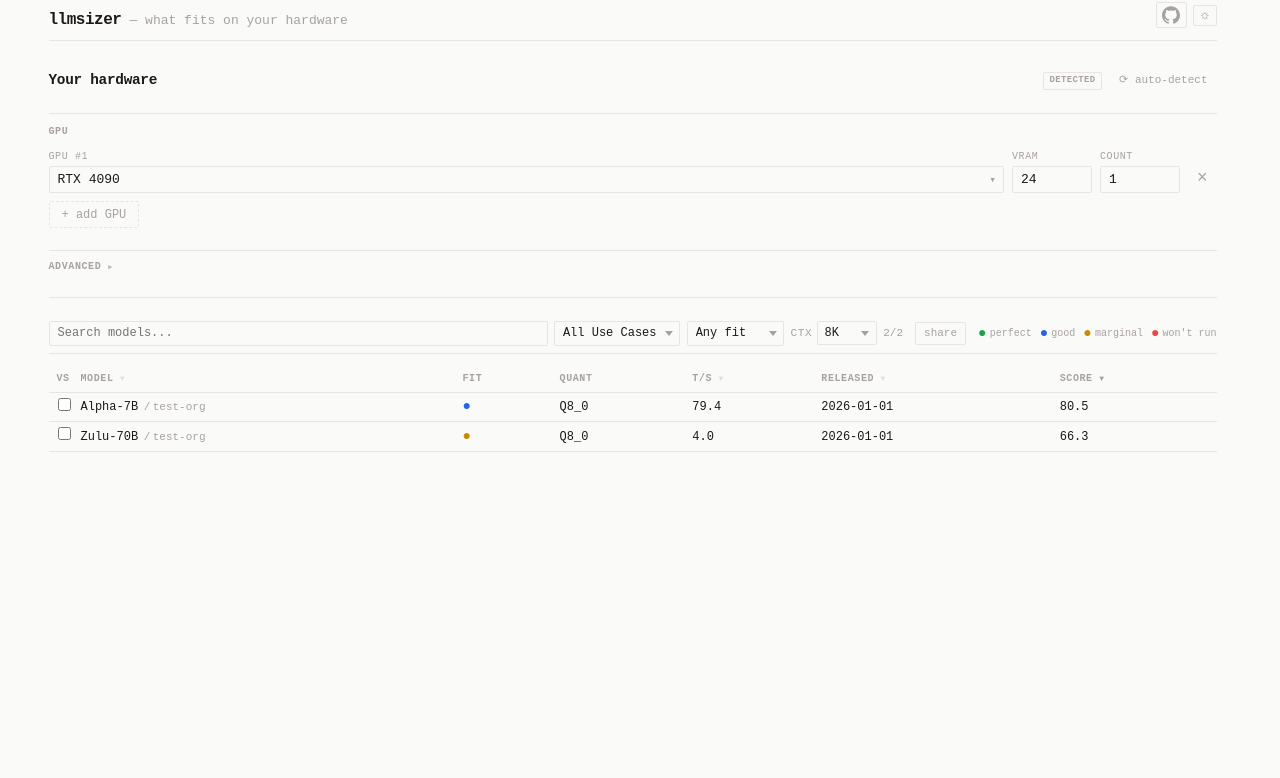
Test: App model state › keeps details stable across sorting and comparisons visible across filtering
Click the text "Alpha-7B": (632, 407) [48,392,1216,422]
(page scrolled)
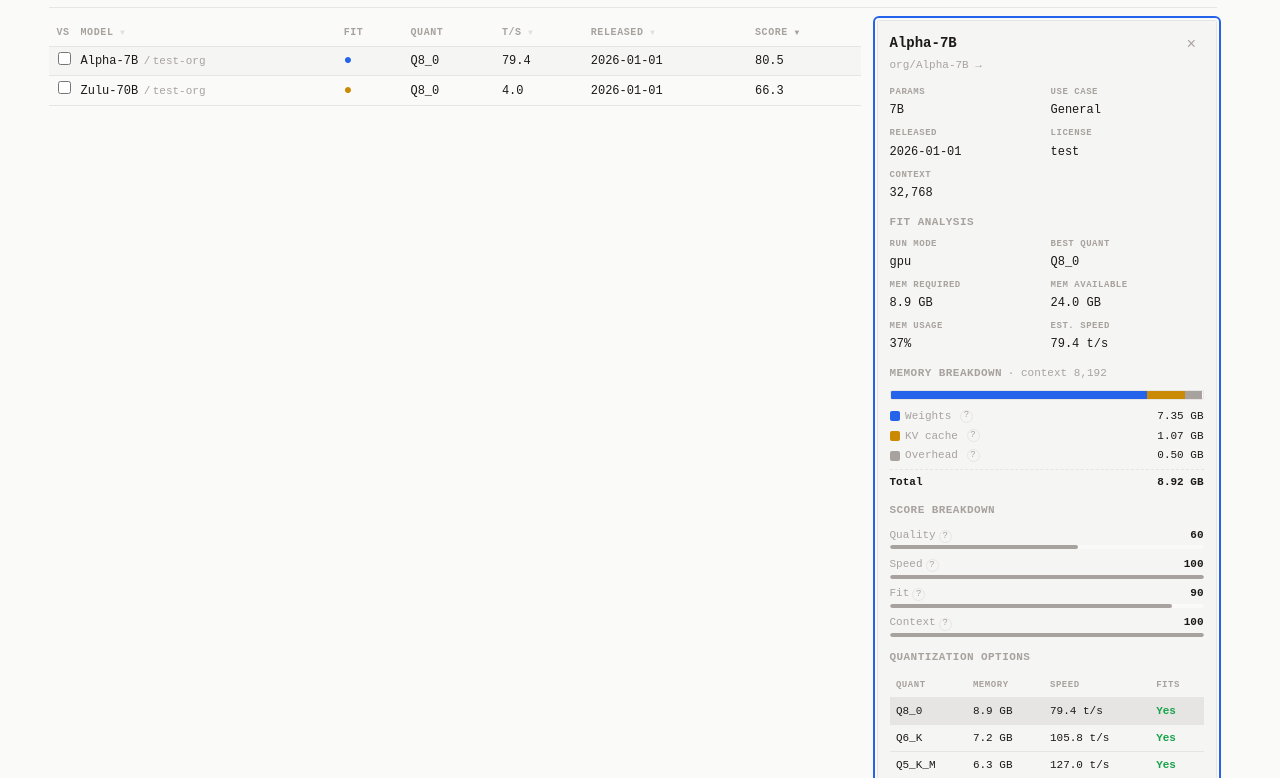
Check: the heading "Alpha-7B" is shown, box [890,35,957,51]
Click the button with aria-label "Sort by Model": (103, 33) [80,25,125,40]
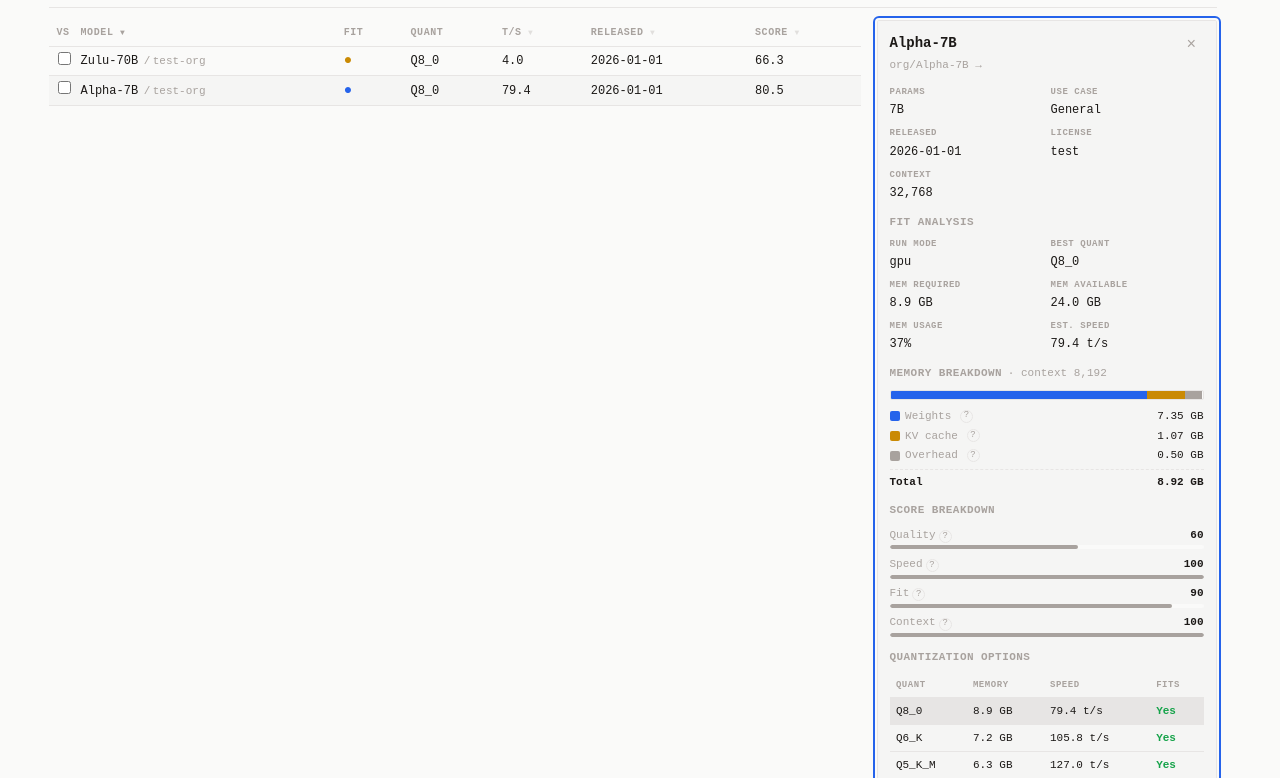
Check: the heading "Alpha-7B" is shown, box [890,35,957,51]
Click the checkbox named "Add to compare" next to "Zulu-70B": (64, 58) [58,52,71,65]
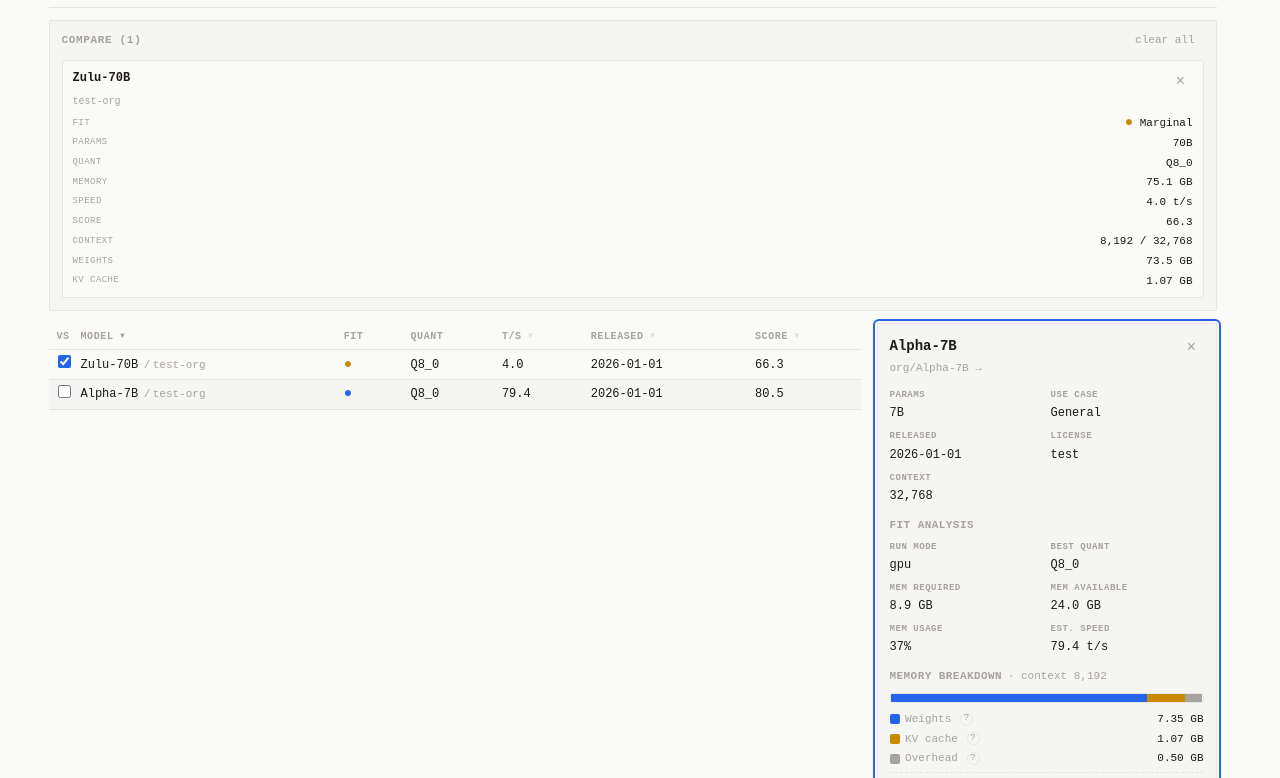
Click the checkbox named "Add to compare": (64, 391) [58,385,71,398]
(page scrolled)
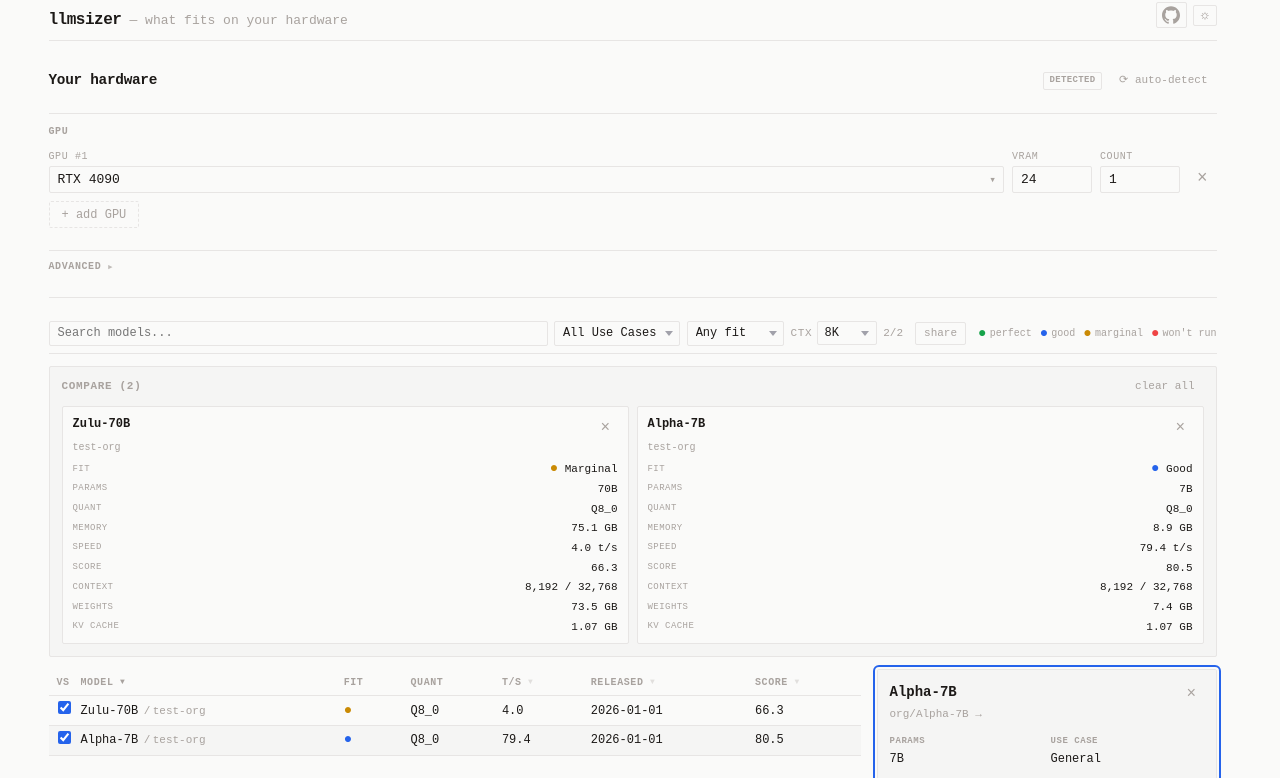
Check: the heading "Compare (2)" is shown, box [62,378,141,395]
In the field labelled "Search models": (298, 334) [48,321,548,346], type "Alpha"
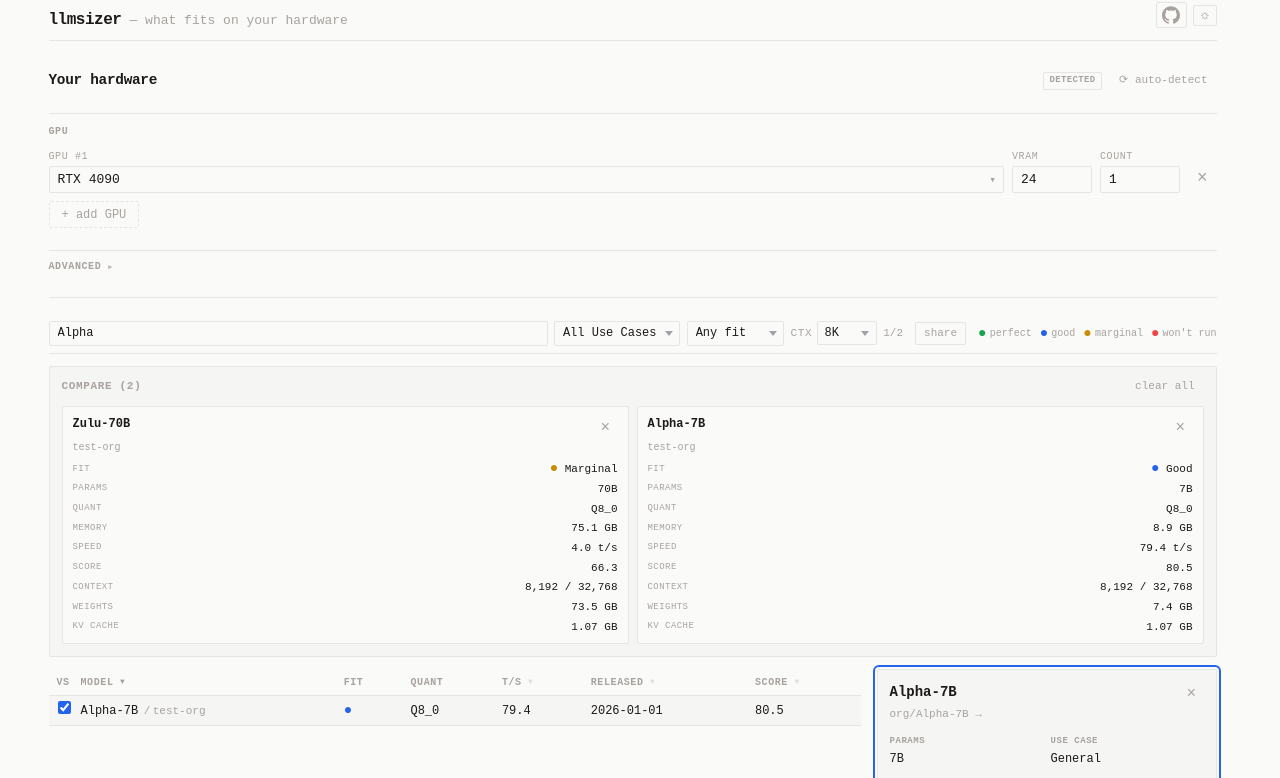
Check: the text "Zulu-70B" is shown, box [72,415,130,433]
Check: the heading "Compare (2)" is shown, box [62,378,141,395]
Check: the text "1/2" is shown, box [883,325,903,342]
